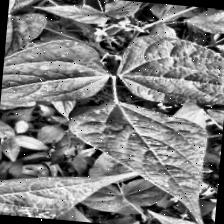Bean Rust: (58, 98, 216, 224), (0, 36, 115, 120), (115, 31, 224, 109), (0, 174, 139, 224)
